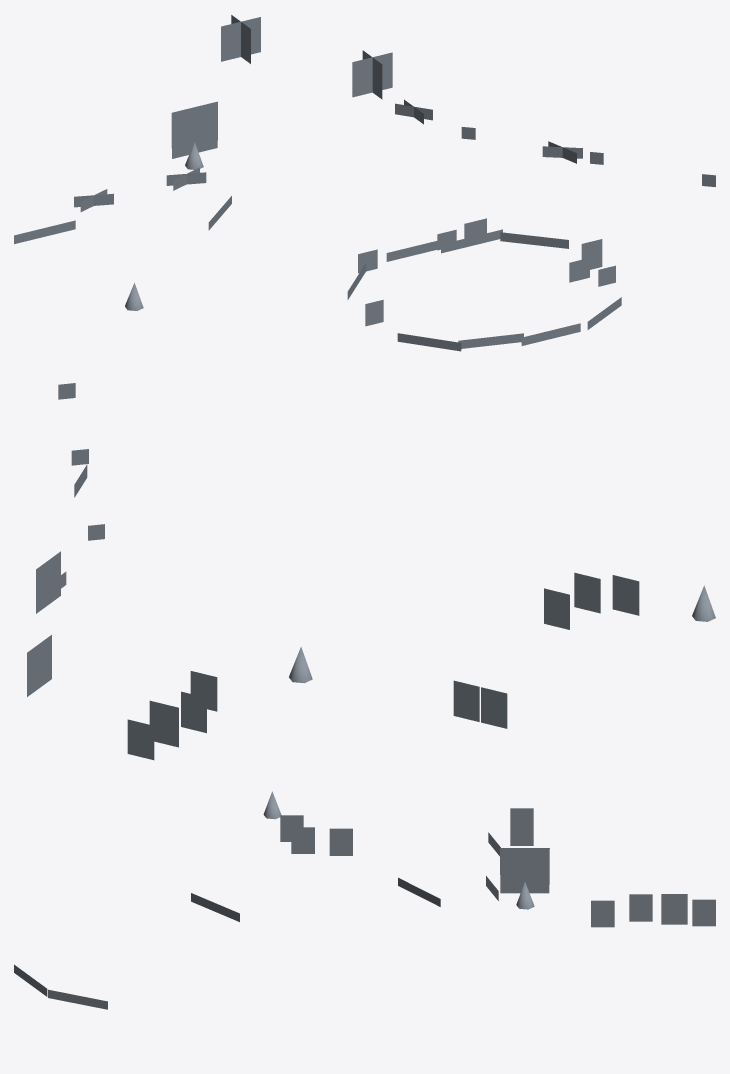
Rendered from gltf__Models__map__Village__startup__v_startup_mergedPlant.glb.
The picture shows the model from 3 angles, top to bottom: view 1: azimuth 30°, elevation 25°; view 2: azimuth 150°, elevation 25°; view 3: azimuth 270°, elevation 25°; orthographic projection. The views are drawn at different scales.
Visible parts, largest first — view 1: v_startup_mergedPlant; view 2: v_startup_mergedPlant; view 3: v_startup_mergedPlant.
Boxes of the visible parts, <box> form: v_startup_mergedPlant: <box>14,15,715,351</box>; v_startup_mergedPlant: <box>27,383,715,760</box>; v_startup_mergedPlant: <box>14,791,715,1009</box>.
Size of the model in its own units: 4.01 by 0.4429 by 4.4.
Materials: 1 (1 with a texture image).
